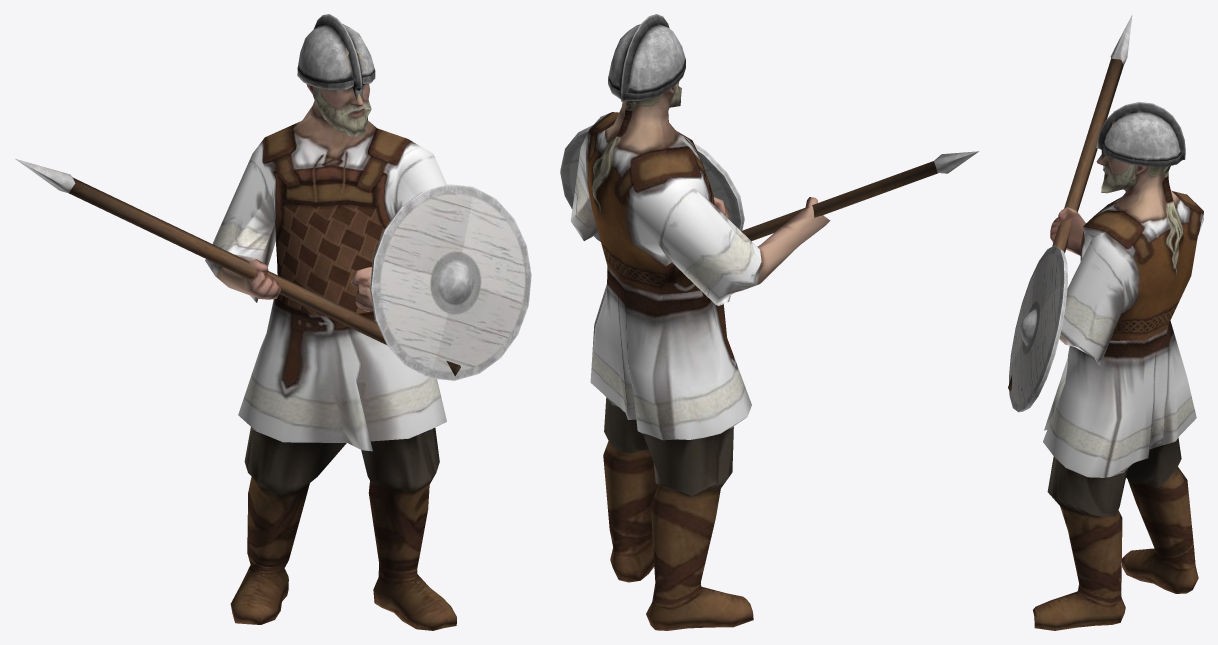
File: 79-hirdman.glb
3 views of the same model, side by side, from view 1: azimuth 30°, elevation 25°; view 2: azimuth 150°, elevation 25°; view 3: azimuth 270°, elevation 25° (orthographic). The views are drawn at different scales.
Bounding box in the file's own units: 1.79 × 2.14 × 0.7531.
4 materials, 4 textured.
